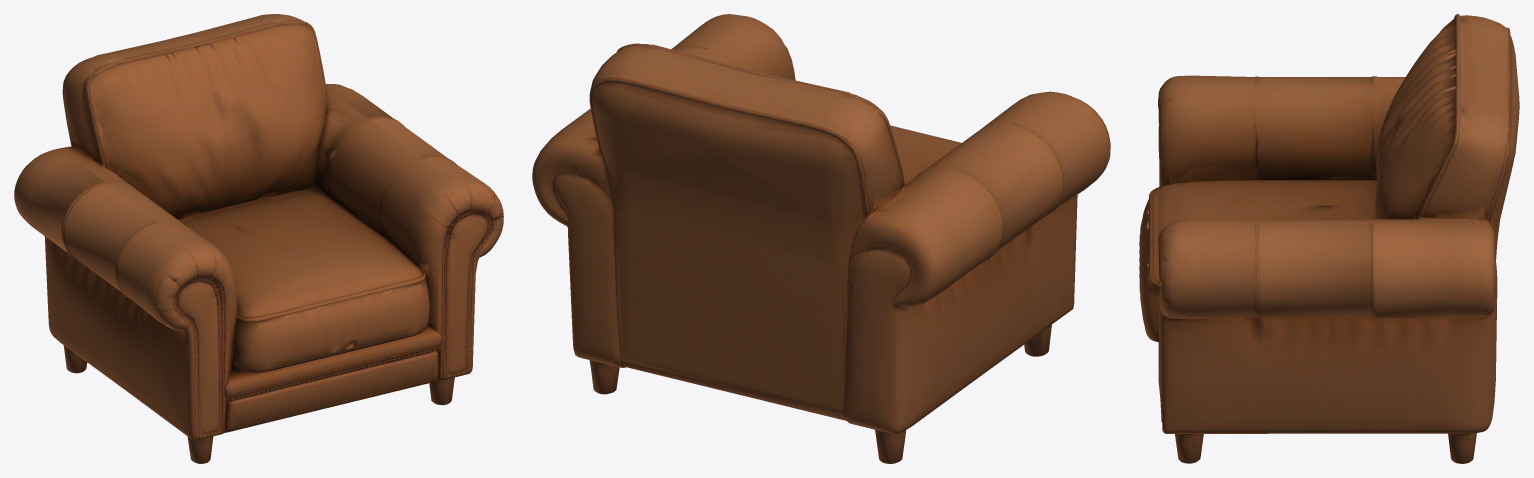
File: a_leather_armchair_d60f1c61_v2.glb
3 renders of one model, left to right at view 1: azimuth 30°, elevation 25°; view 2: azimuth 150°, elevation 25°; view 3: azimuth 270°, elevation 25°, orthographic. The views are drawn at different scales.
Visible parts, largest first — view 1: material; view 2: material; view 3: material.
Boxes of the visible parts, box(x1,y1,x2,y2) form: material: box(14, 14, 503, 463); material: box(532, 14, 1110, 463); material: box(1139, 14, 1519, 463).
Bounding box in the file's own units: 1.9 × 1.56 × 1.62.
Materials: 1 (1 with a texture image).
